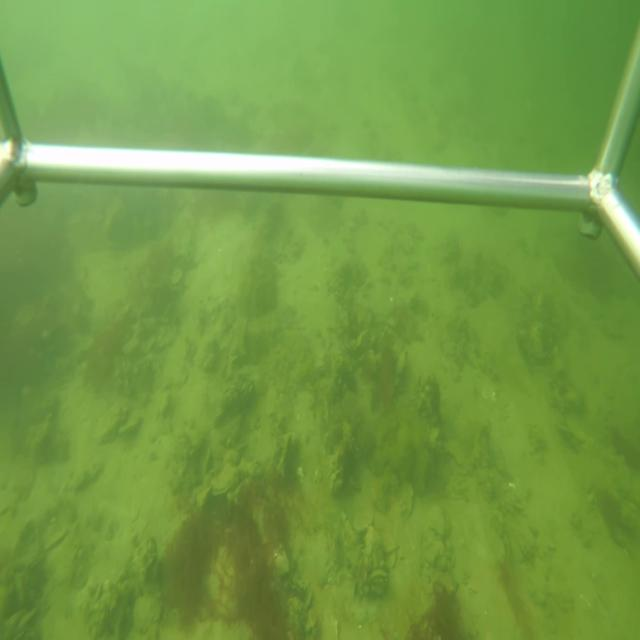Oyster-Closed: (206, 463, 242, 497)
